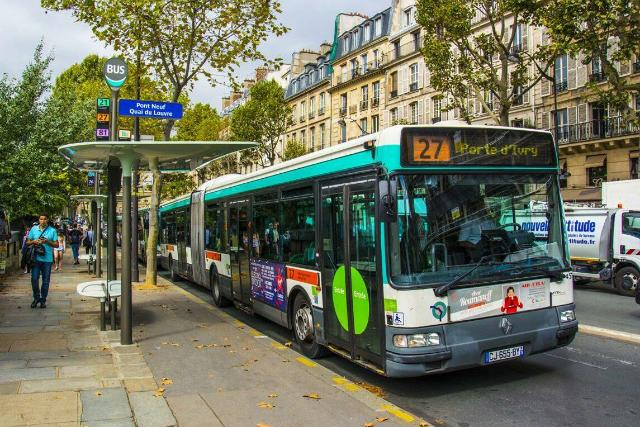bus: (155, 117, 610, 392)
